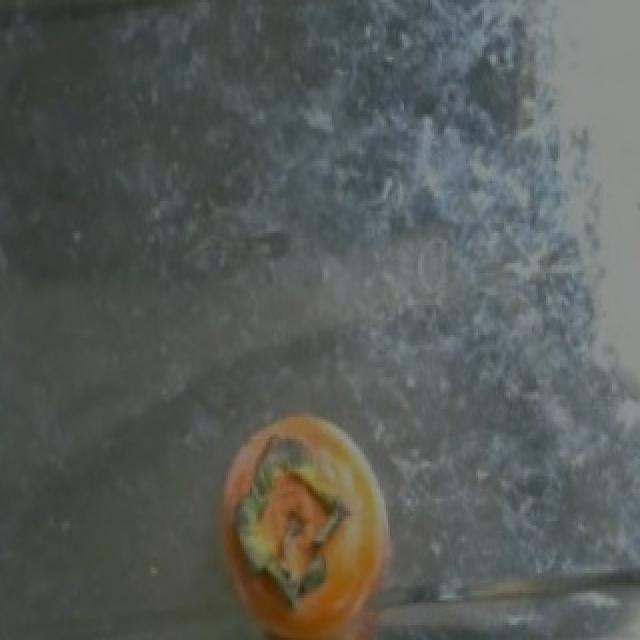Fruit: (200, 394, 414, 640)
